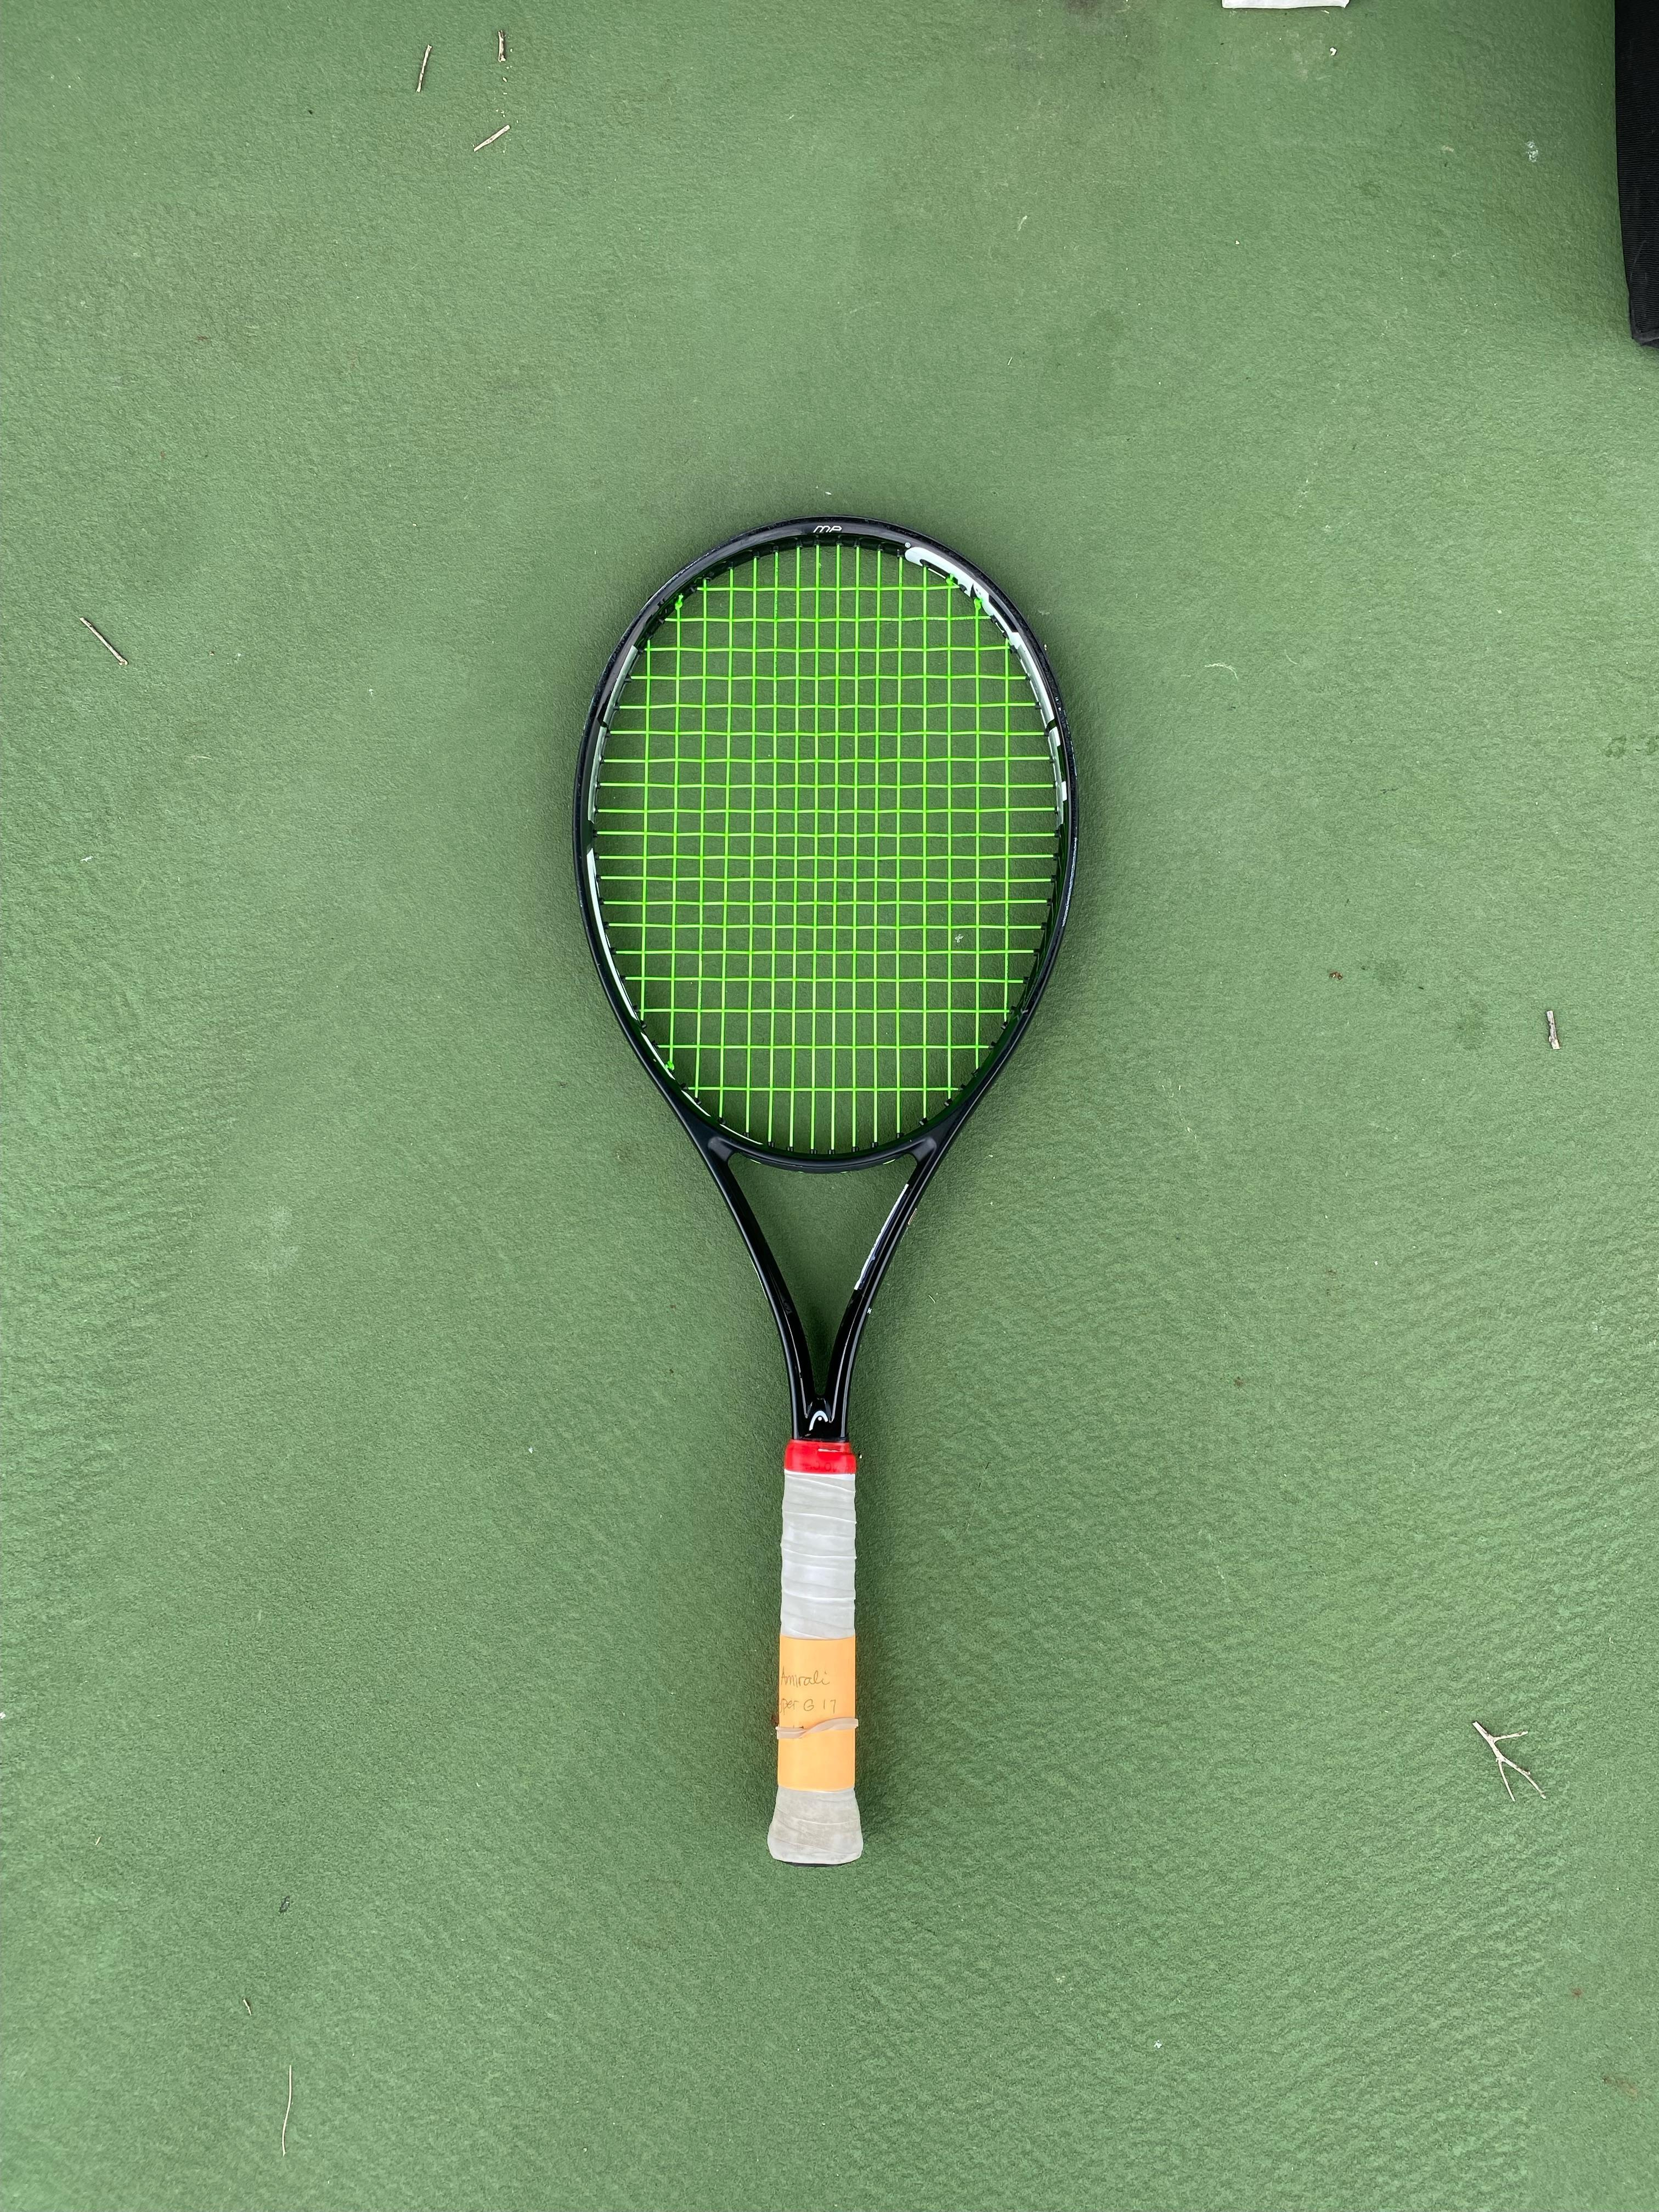Tennis-Racket: (575, 519, 1075, 1862)
